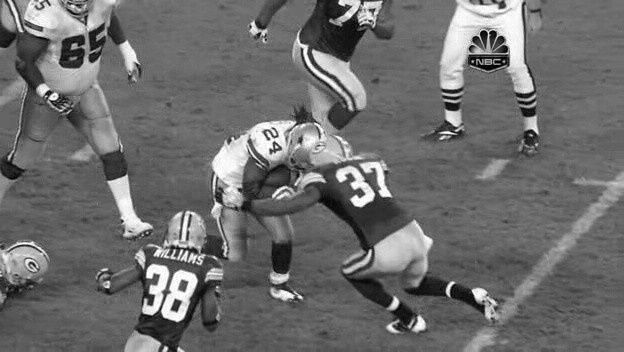person: (288, 123, 321, 165), (287, 123, 320, 165), (289, 123, 322, 165), (288, 122, 321, 164), (288, 124, 321, 166)
target_negative: (408, 3, 551, 200), (380, 28, 499, 227), (538, 221, 585, 312), (317, 332, 561, 348), (426, 112, 493, 150)
